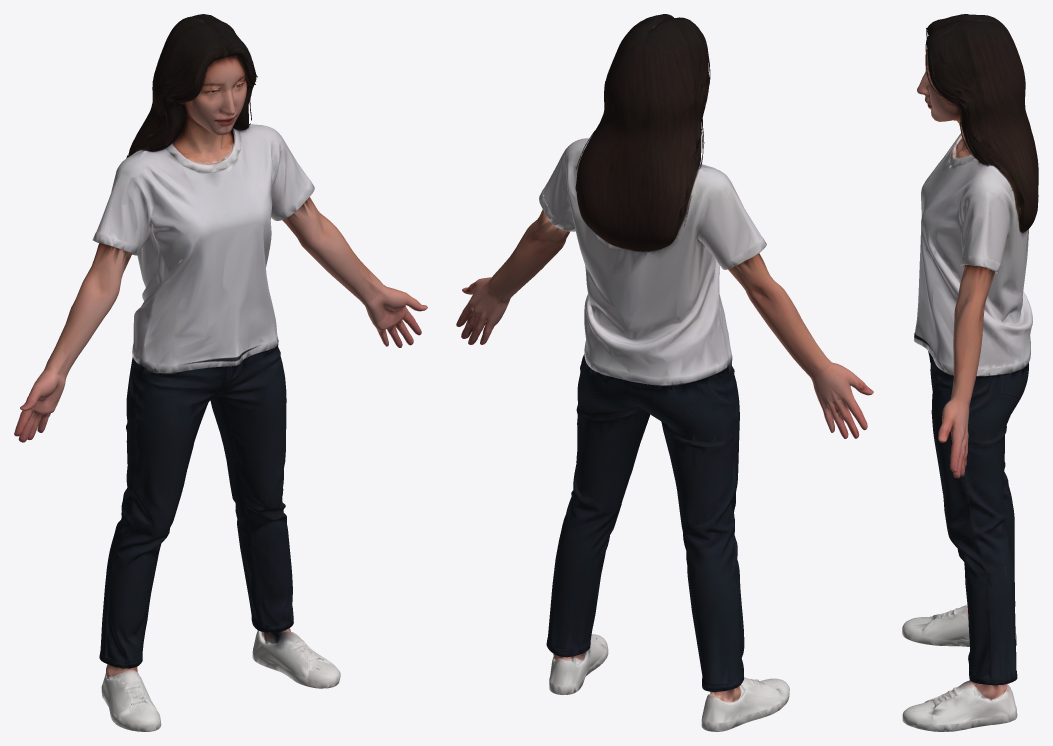
Rendered from female.glb.
The picture shows the model from 3 angles, left to right: view 1: azimuth 30°, elevation 25°; view 2: azimuth 150°, elevation 25°; view 3: azimuth 270°, elevation 25°; orthographic projection. The views are drawn at different scales.
Visible parts, largest first — view 1: node_0; view 2: node_0; view 3: node_0.
Boxes of the visible parts, <box> form: node_0: <box>14,14,427,731</box>; node_0: <box>456,14,873,731</box>; node_0: <box>902,14,1038,731</box>.
Size of the model in its own units: 0.7237 by 1.14 by 0.2123.
Materials: 1 (1 with a texture image).
